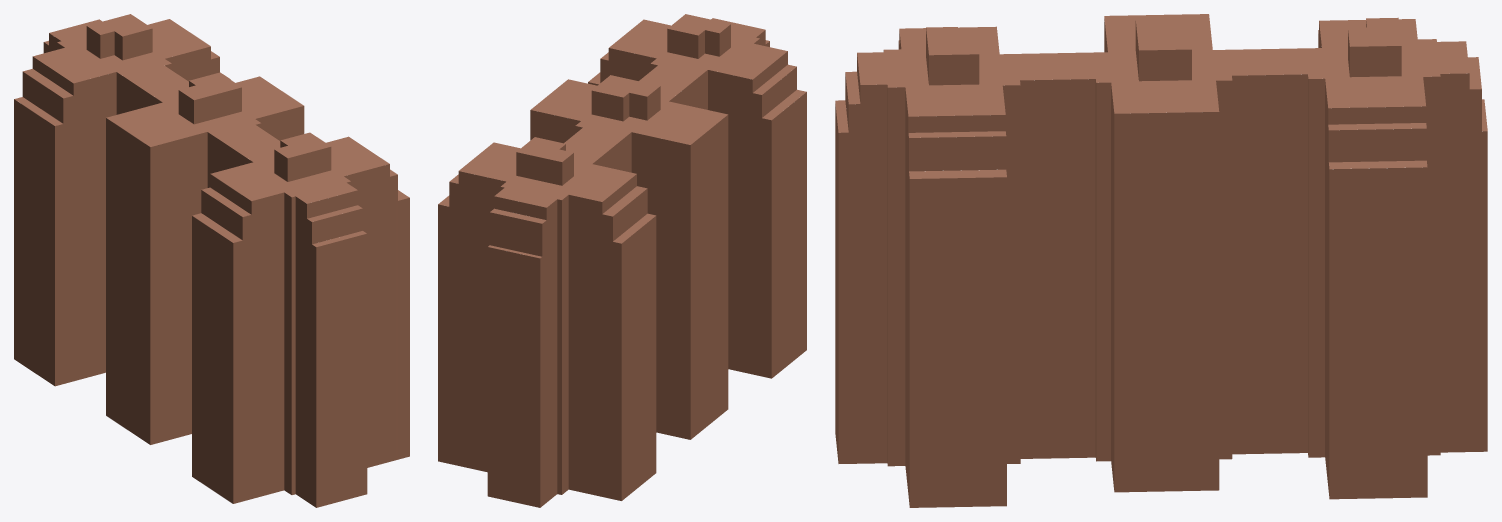
File: tile-8_10.glb
The picture shows the model from 3 angles, left to right: view 1: azimuth 30°, elevation 25°; view 2: azimuth 150°, elevation 25°; view 3: azimuth 270°, elevation 25°; orthographic projection. The views are drawn at different scales.
Parts seen in each view (by area): view 1: wall, roof; view 2: wall, roof; view 3: wall, roof.
Boxes of the visible parts, left/top/right/bottom form: wall: left=14, top=26, right=409, bottom=507; roof: left=14, top=14, right=409, bottom=247; wall: left=438, top=24, right=806, bottom=507; roof: left=438, top=14, right=806, bottom=258; wall: left=835, top=19, right=1487, bottom=507; roof: left=835, top=14, right=1487, bottom=178.
Size of the model in its own units: 42.15 by 65.79 by 95.07.
